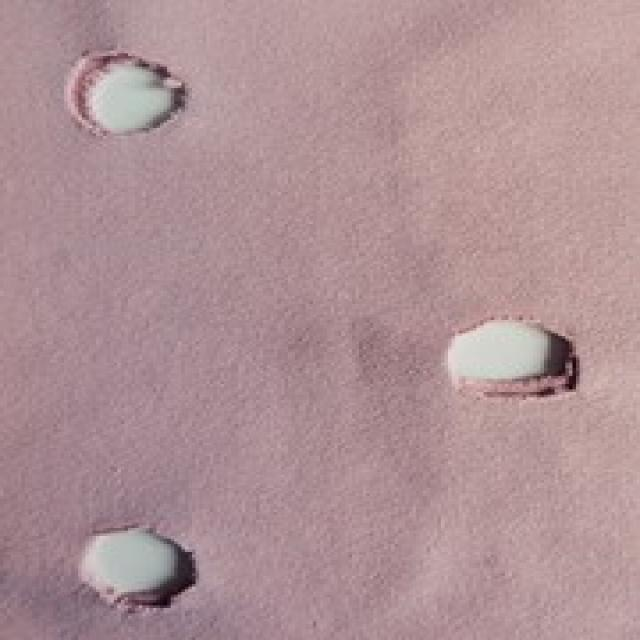Hole: (65, 51, 185, 134), (449, 321, 579, 397), (79, 529, 196, 610)
